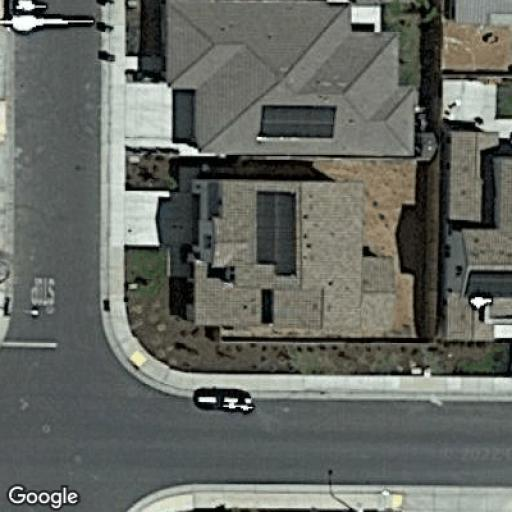solar-panel: (253, 188, 300, 280), (256, 102, 336, 140), (466, 269, 512, 299)
